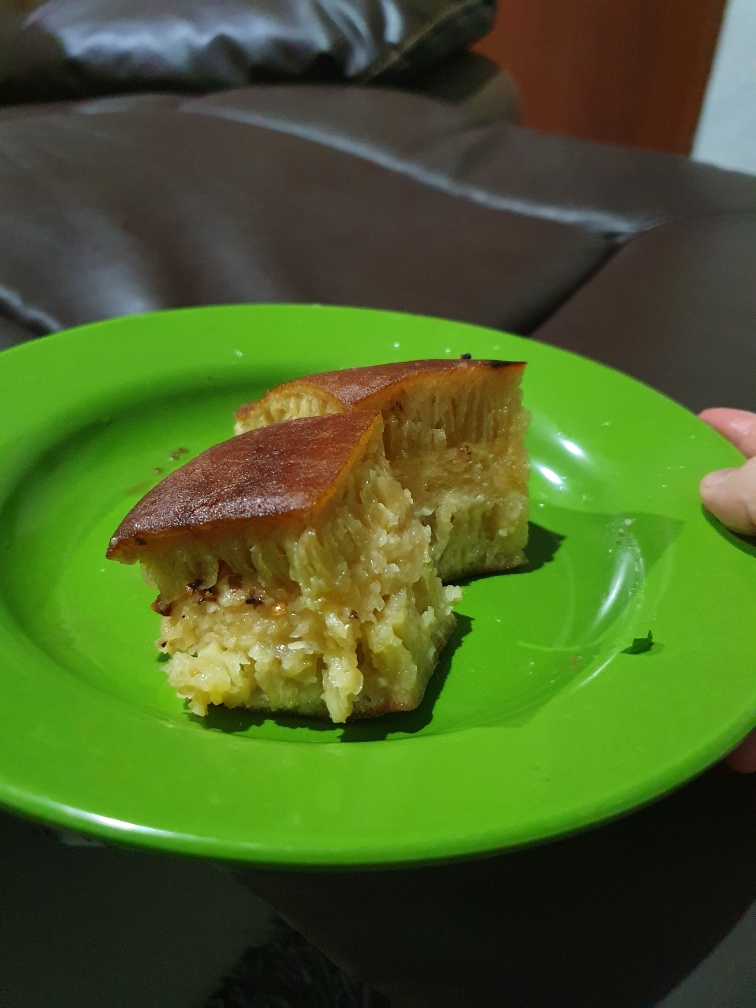martabak manis: (122, 421, 483, 732), (223, 330, 538, 579)
